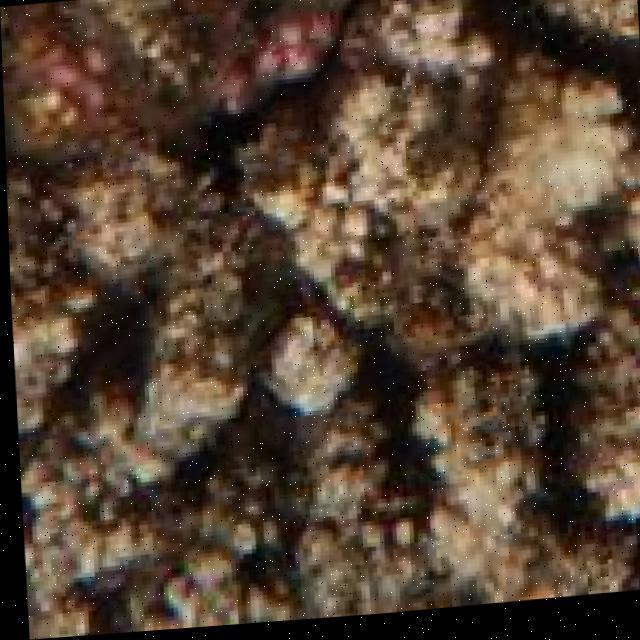Dead Coral: (0, 139, 640, 640)
Healthy Coral: (0, 0, 110, 114), (233, 2, 354, 90)
